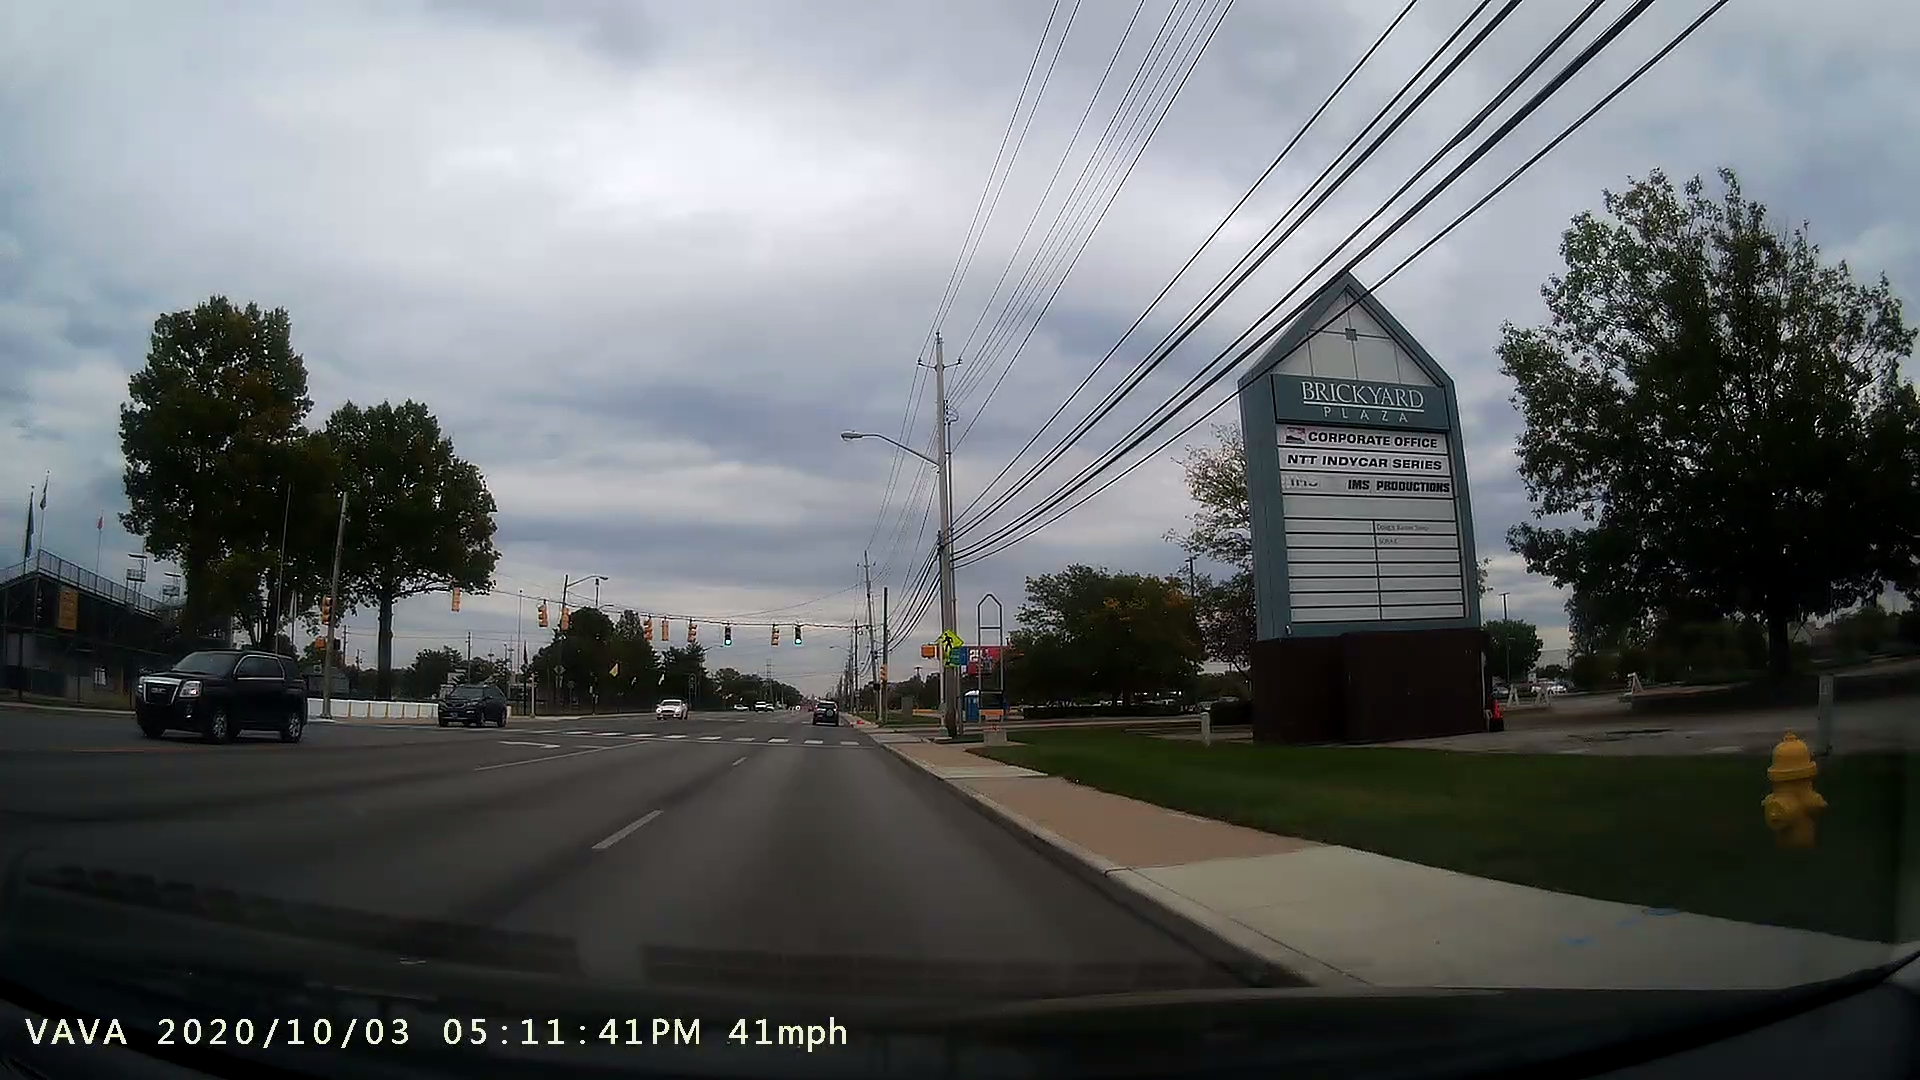fire_hydrant: (1738, 716, 1824, 855)
